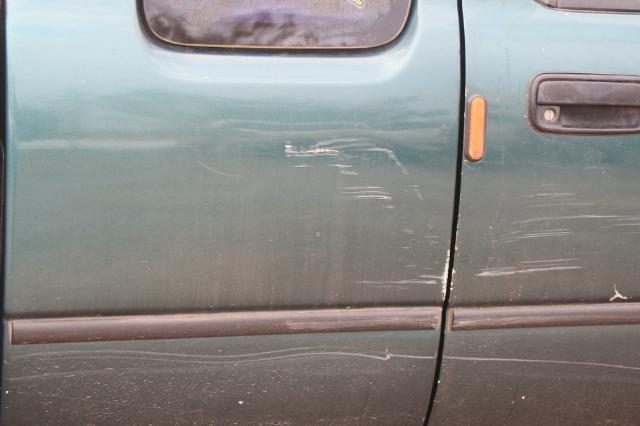Door: (12, 57, 448, 426), (466, 59, 640, 426)
